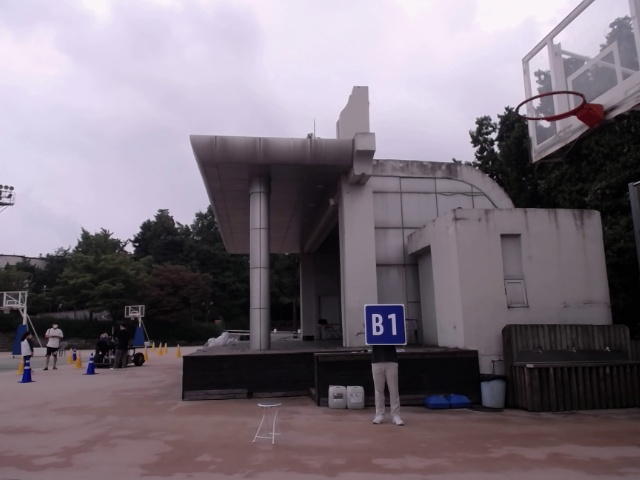delivery_b1: (364, 304, 406, 345)
